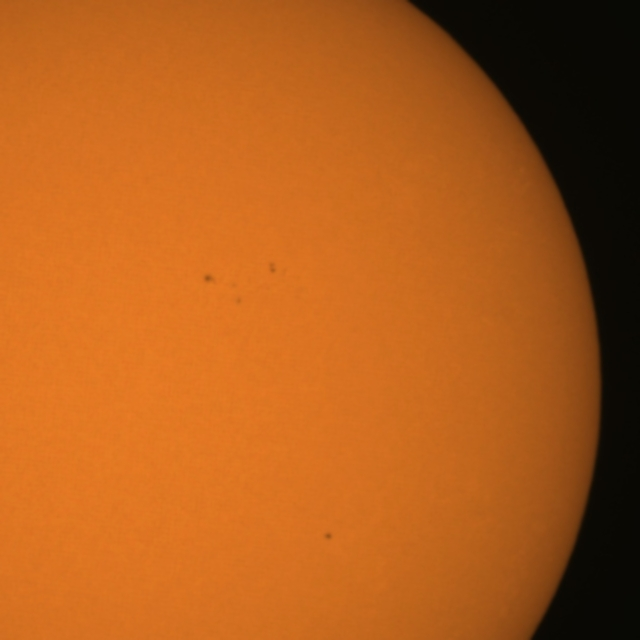sunspot: (229, 280, 244, 308), (201, 272, 217, 287), (267, 260, 279, 276), (322, 530, 334, 543), (234, 295, 244, 308)
